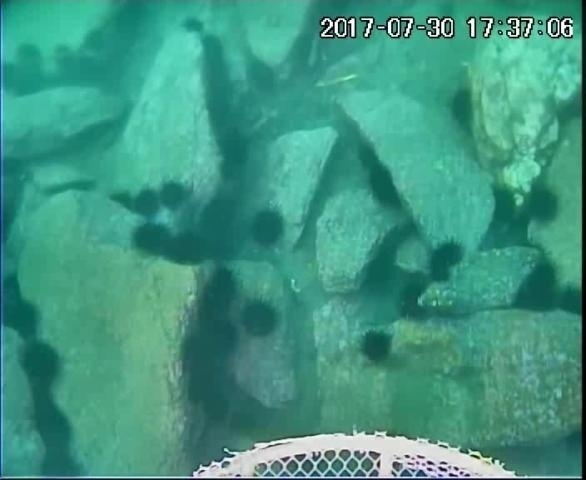echinus: (511, 259, 562, 317), (17, 339, 65, 389), (196, 192, 242, 243), (162, 228, 212, 270), (424, 238, 468, 285), (237, 297, 282, 342), (1, 58, 48, 101), (521, 183, 564, 228), (1, 297, 44, 341), (129, 221, 175, 260), (394, 275, 433, 321), (248, 206, 288, 250), (445, 85, 479, 135), (487, 183, 522, 229), (356, 328, 397, 367), (360, 253, 398, 294), (243, 57, 281, 96), (201, 314, 242, 350), (169, 337, 209, 373), (197, 33, 230, 73), (156, 178, 193, 213), (554, 281, 585, 322), (11, 40, 47, 75), (130, 186, 164, 220), (217, 128, 249, 162), (184, 368, 215, 403), (199, 387, 230, 422), (372, 180, 405, 212), (363, 163, 395, 195), (223, 403, 256, 433), (107, 187, 141, 216), (354, 142, 381, 173), (81, 28, 108, 54), (49, 40, 76, 66), (113, 9, 140, 35), (178, 15, 207, 38), (215, 154, 239, 181)
